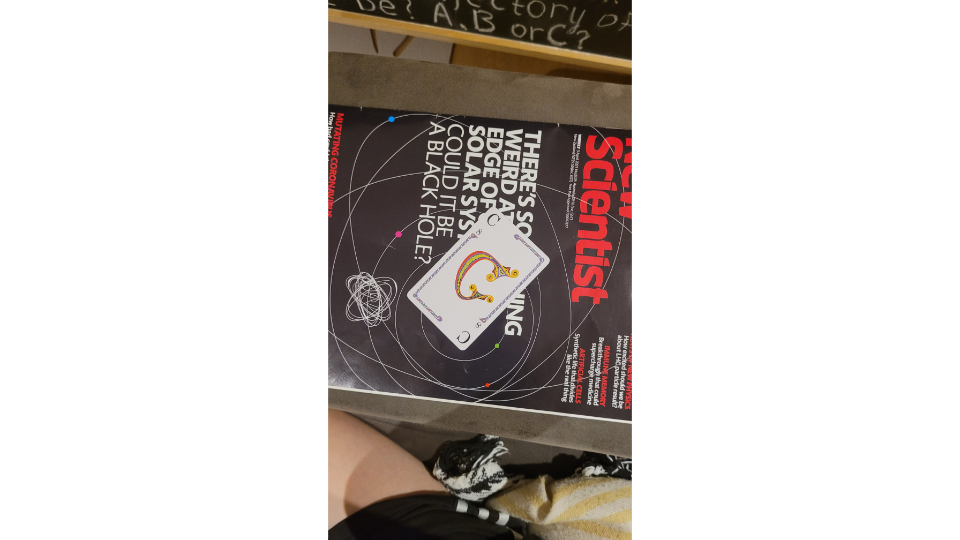C: (405, 204, 553, 353)
